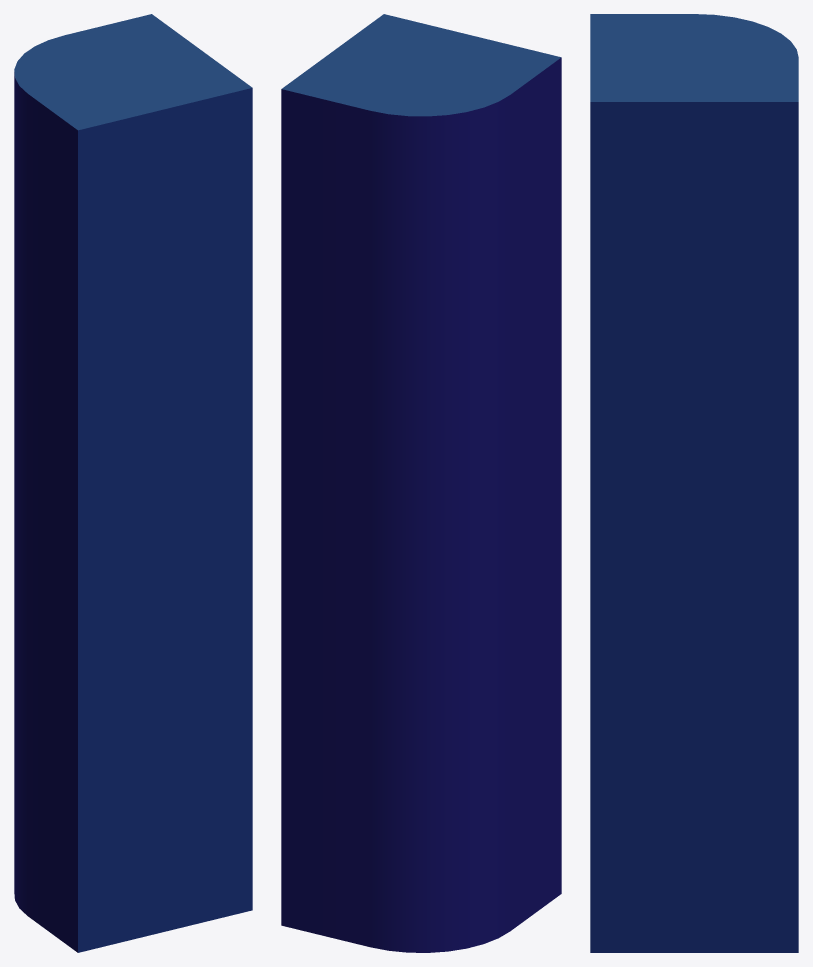
Rendered from Wall_corner_0.fbx.
3 views of the same model, side by side, from view 1: azimuth 30°, elevation 25°; view 2: azimuth 150°, elevation 25°; view 3: azimuth 270°, elevation 25° (orthographic). The views are drawn at different scales.
Visible parts, largest first — view 1: Wall_corner_0; view 2: Wall_corner_0; view 3: Wall_corner_0.
Part boxes in pixels (x1=…): Wall_corner_0: x1=14, y1=14, x2=252, y2=952; Wall_corner_0: x1=281, y1=14, x2=561, y2=952; Wall_corner_0: x1=590, y1=14, x2=798, y2=952.
Bounding box in the file's own units: 50 × 225 × 50.
